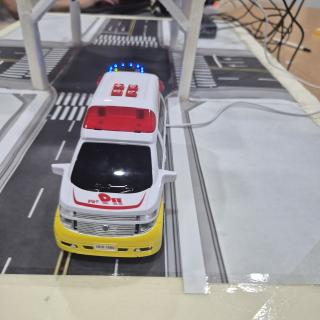Ambulance: (52, 71, 177, 257)
